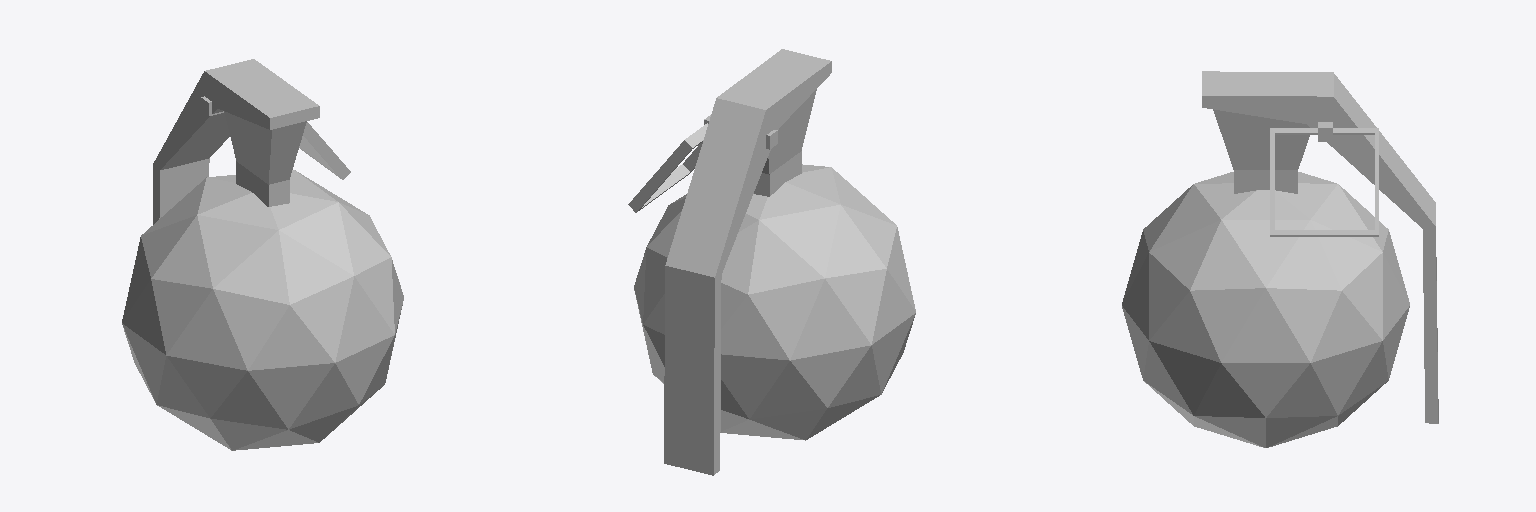
Rendered from Grenade_Frag_M67.obj.
3 views of the same model, side by side, from view 1: azimuth 30°, elevation 25°; view 2: azimuth 150°, elevation 25°; view 3: azimuth 270°, elevation 25° (orthographic).
Parts seen in each view (by area): view 1: Grenade_Frag_M67_Cube.012; view 2: Grenade_Frag_M67_Cube.012; view 3: Grenade_Frag_M67_Cube.012.
Part boxes in pixels (x1,y1,x2,y2): Grenade_Frag_M67_Cube.012: (122,59,403,450); Grenade_Frag_M67_Cube.012: (628,49,915,475); Grenade_Frag_M67_Cube.012: (1122,71,1438,447).
Size of the model in its own units: 0.0645 by 0.0893 by 0.0744.